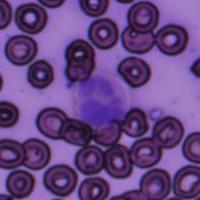N: (73, 72, 130, 130)
